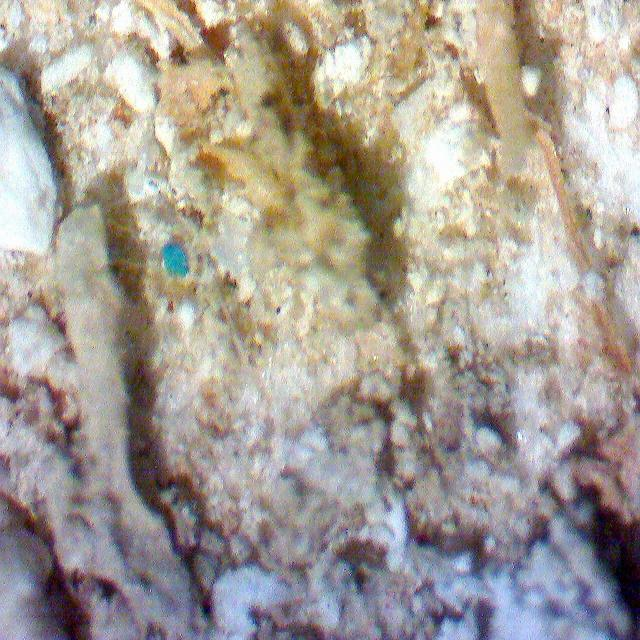microplastic: (162, 241, 190, 277)
